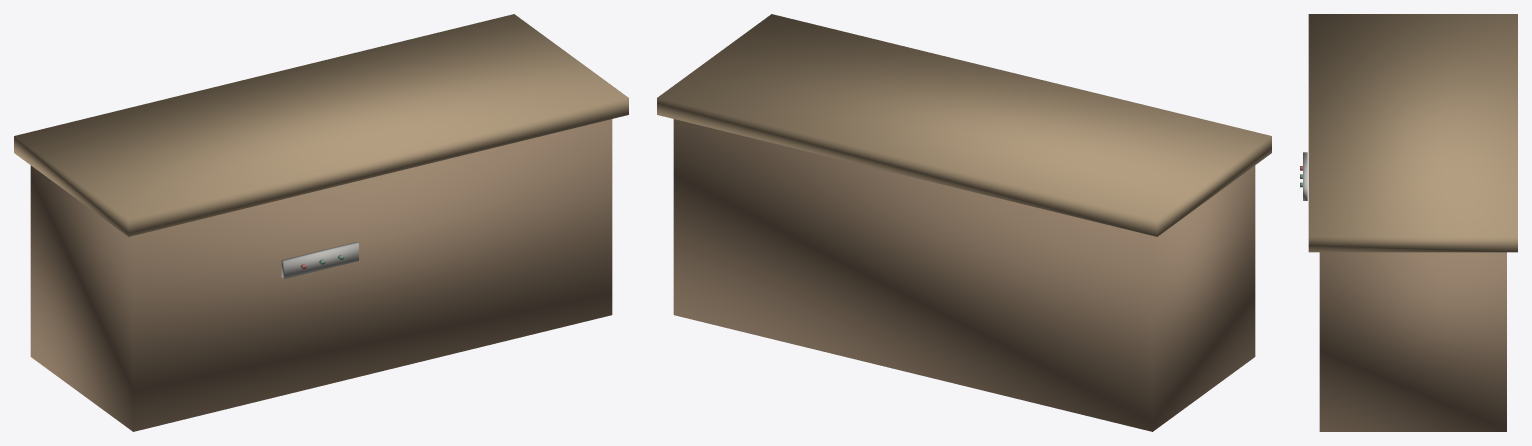
File: clinic_reception_counter__squat.glb
3 renders of one model, left to right at view 1: azimuth 30°, elevation 25°; view 2: azimuth 150°, elevation 25°; view 3: azimuth 270°, elevation 25°, orthographic. The views are drawn at different scales.
Visible parts, largest first — view 1: world; view 2: world; view 3: world.
Boxes of the visible parts, x1=… form: world: x1=14, y1=14, x2=628, y2=431; world: x1=657, y1=14, x2=1271, y2=431; world: x1=1300, y1=14, x2=1517, y2=431.
Bounding box in the file's own units: 2.07 × 0.8652 × 0.8543.
